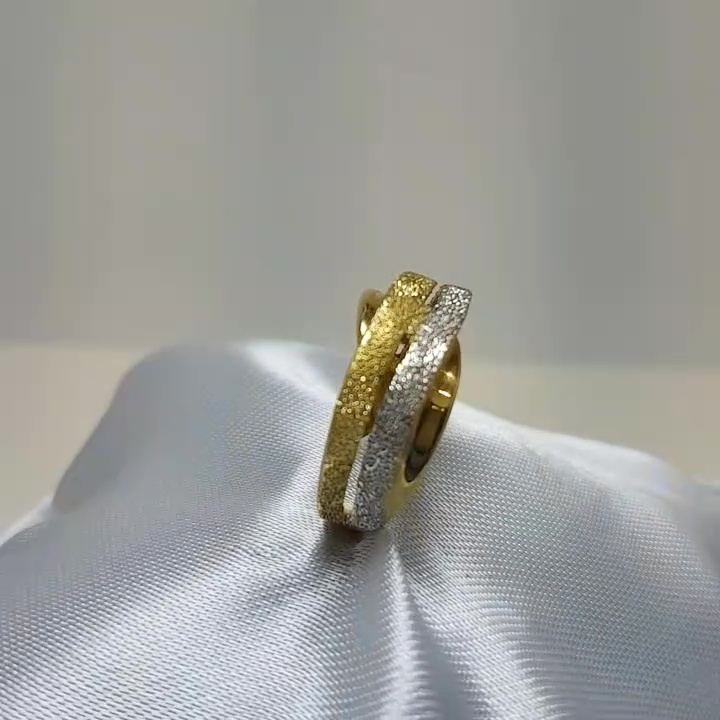Ring 5: (268, 251, 480, 555)
